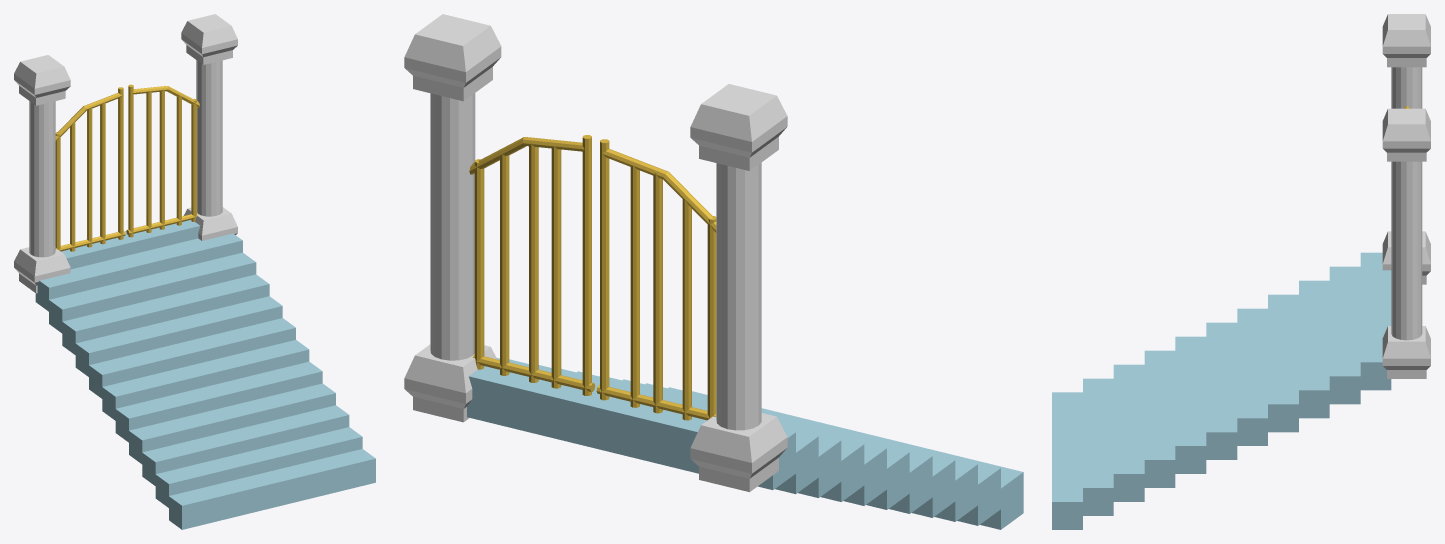
Rendered from Ворота в рай.fbx.
3 views of the same model, side by side, from view 1: azimuth 30°, elevation 25°; view 2: azimuth 150°, elevation 25°; view 3: azimuth 270°, elevation 25° (orthographic). The views are drawn at different scales.
Parts seen in each view (by area): view 1: Лестница, Стойки, Ворота Левые, Ворота Правые; view 2: Стойки, Лестница, Ворота Правые, Ворота Левые; view 3: Лестница, Стойки.
Part boxes in pixels (x1=…): Лестница: x1=35, y1=220, x2=375, y2=529; Стойки: x1=14, y1=14, x2=237, y2=293; Ворота Левые: x1=55, y1=87, x2=125, y2=251; Ворота Правые: x1=126, y1=84, x2=199, y2=237; Стойки: x1=404, y1=14, x2=787, y2=492; Лестница: x1=467, y1=358, x2=1023, y2=529; Ворота Правые: x1=469, y1=135, x2=595, y2=395; Ворота Левые: x1=596, y1=139, x2=716, y2=420; Лестница: x1=1052, y1=252, x2=1391, y2=529; Стойки: x1=1382, y1=14, x2=1430, y2=378.
Bounding box in the file's own units: 280 × 462 × 391.
